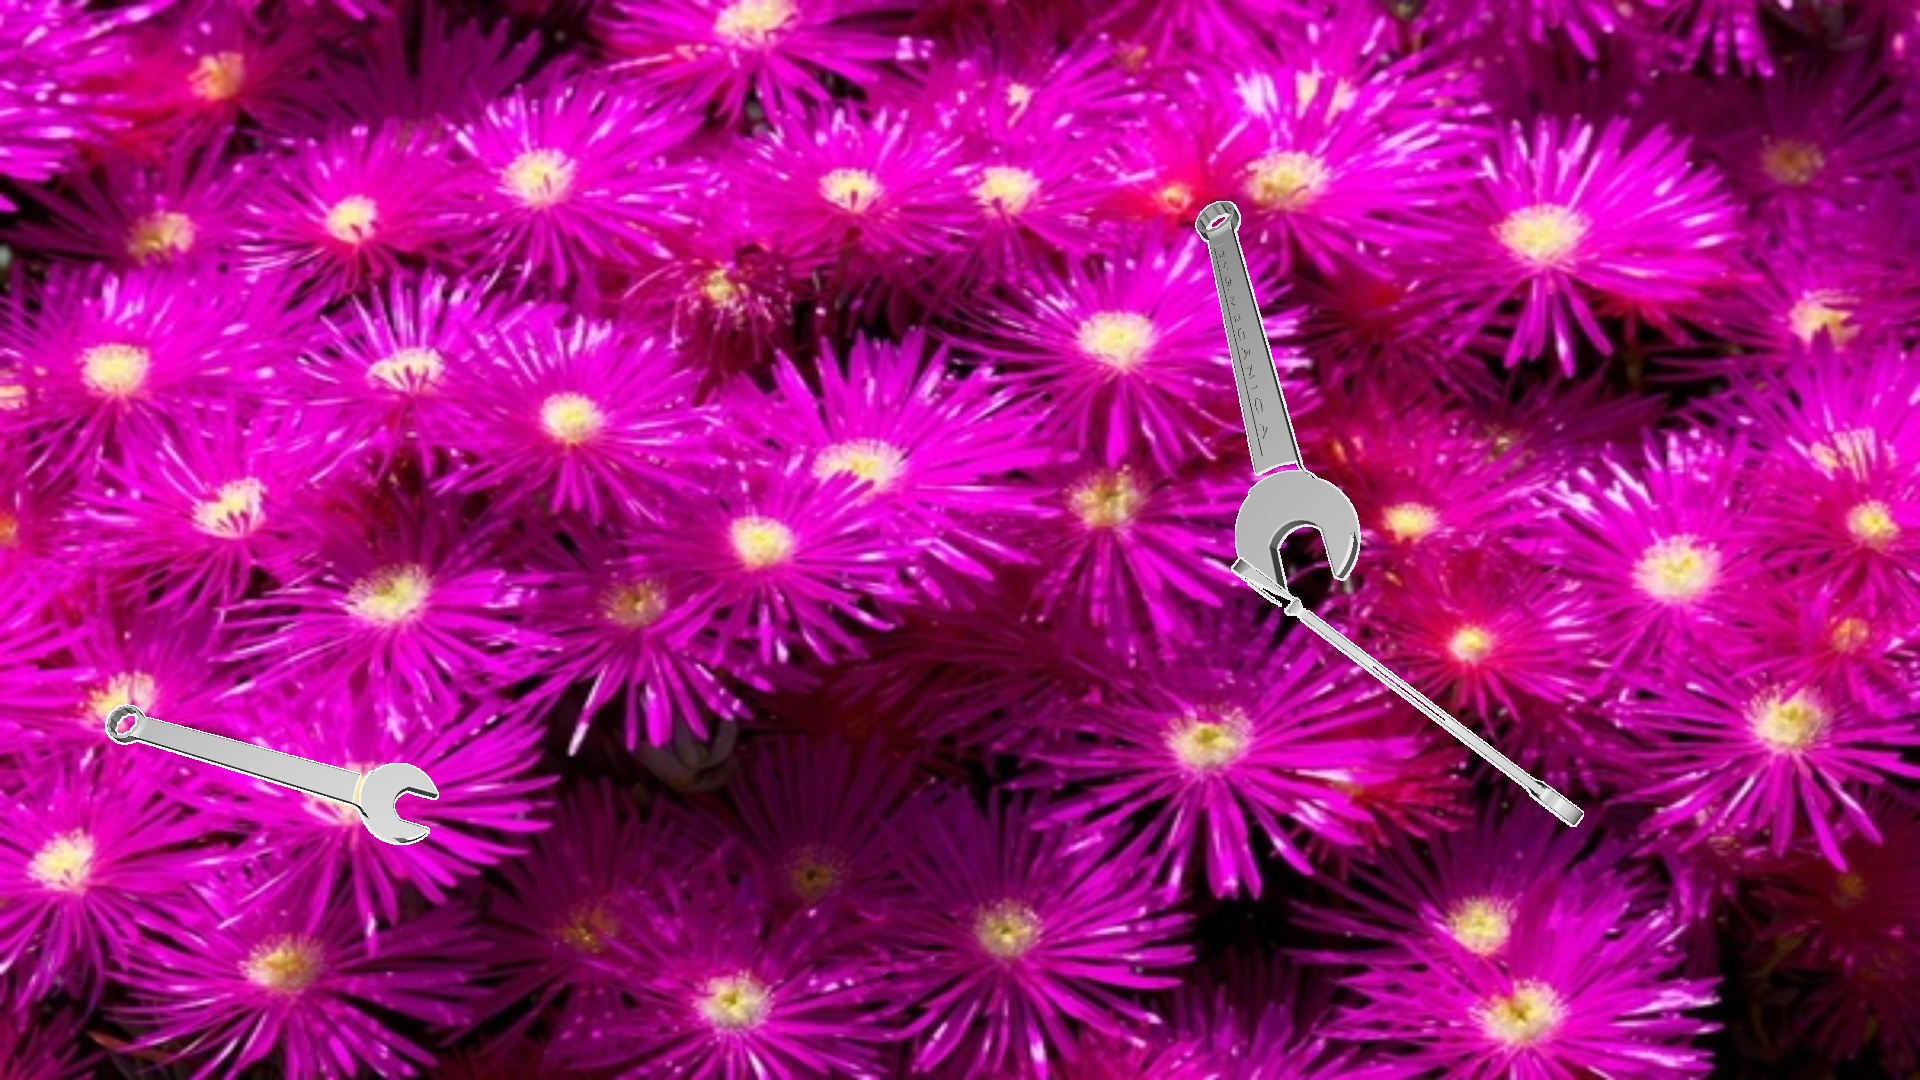Mixed Key: (1232, 556, 1582, 825), (1195, 200, 1360, 593), (105, 704, 438, 844)
